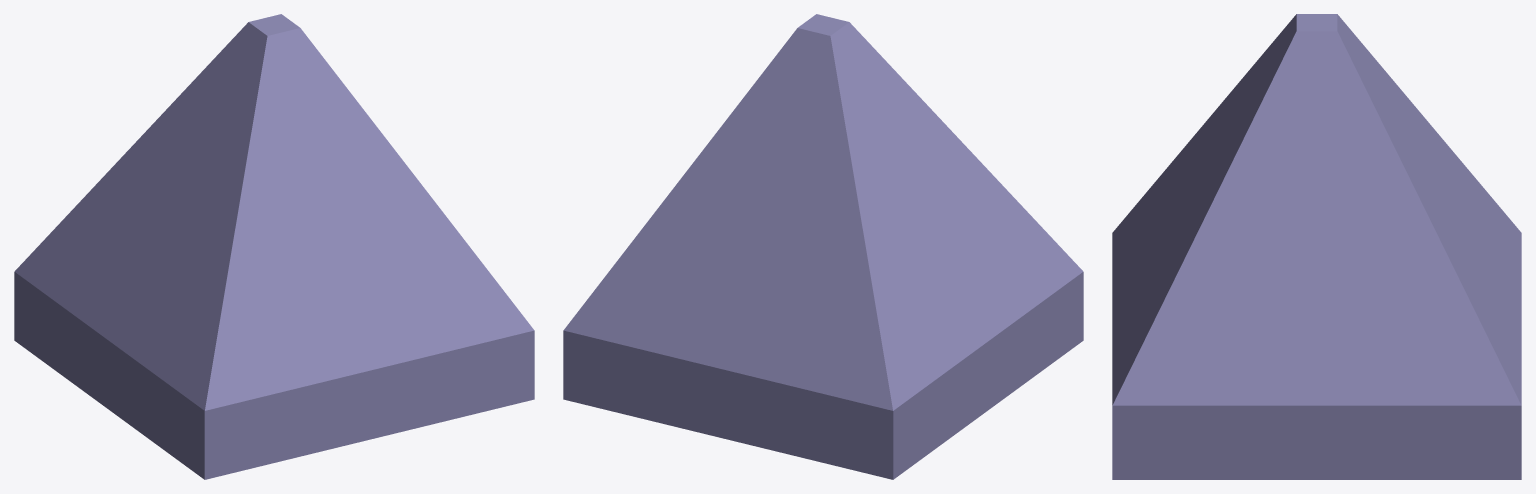
Rendered from Explodable.glb.
3 views of the same model, side by side, from view 1: azimuth 30°, elevation 25°; view 2: azimuth 150°, elevation 25°; view 3: azimuth 270°, elevation 25° (orthographic). The views are drawn at different scales.
Visible parts, largest first — view 1: roof_point; view 2: roof_point; view 3: roof_point.
Boxes of the visible parts, x1,y1,x2,y2 form: roof_point: (14,14,534,479); roof_point: (563,14,1083,479); roof_point: (1112,14,1521,479).
Size of the model in its own units: 1 by 1 by 1.
